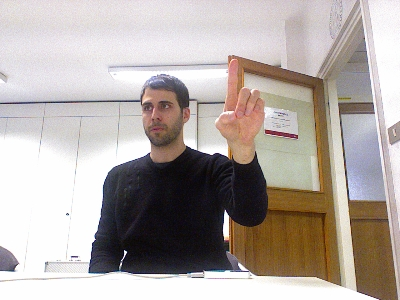食指: (214, 57, 266, 147)
